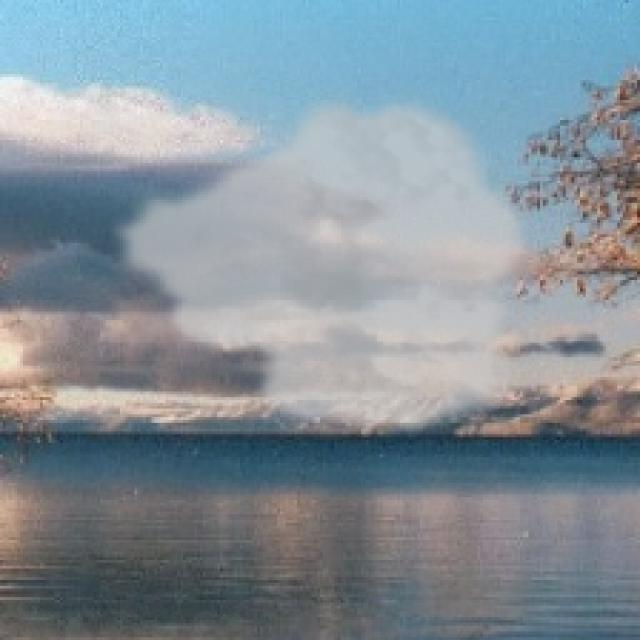smoke: (106, 89, 531, 437)
